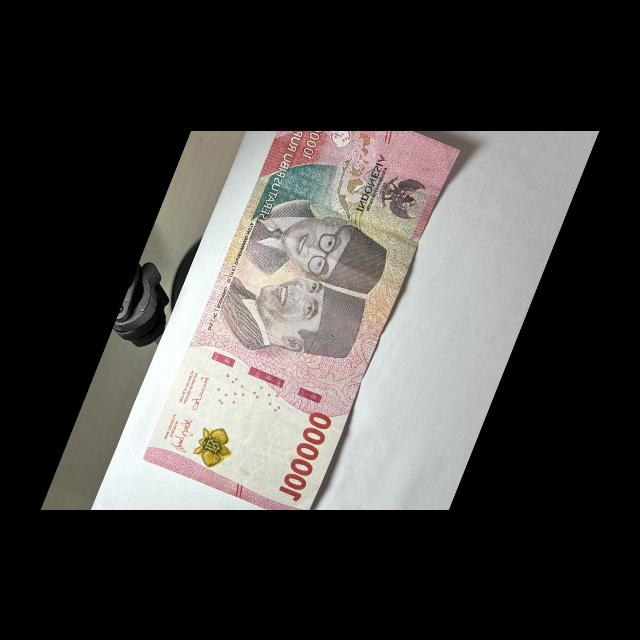Palsu-100k: (137, 73, 468, 530)
Tinta-Palsu-100k: (189, 420, 240, 474)
